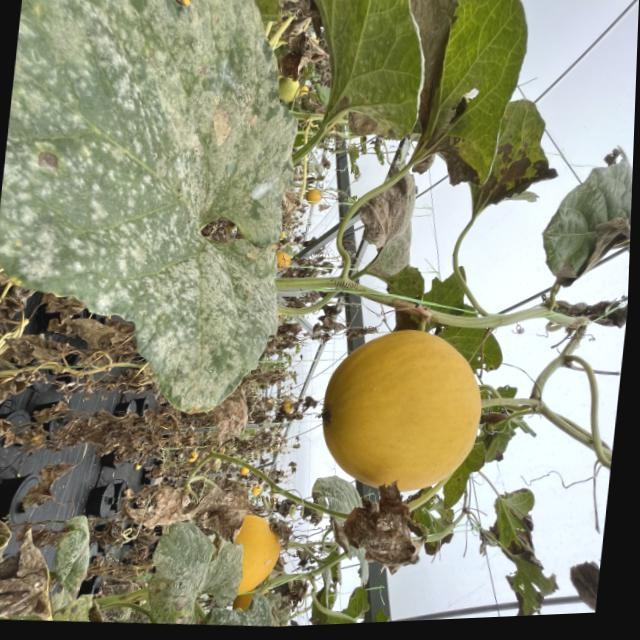CMV: (43, 506, 103, 616)
alternaria leaf blight: (474, 468, 570, 618), (537, 155, 633, 293), (42, 574, 103, 624), (565, 535, 602, 614)
bacterial wilt: (0, 0, 311, 409), (142, 511, 252, 630), (462, 80, 555, 206), (393, 0, 460, 136), (342, 476, 429, 580), (123, 476, 243, 536), (354, 175, 418, 275), (24, 397, 115, 454), (0, 534, 57, 623), (143, 382, 202, 457), (202, 589, 303, 630), (39, 311, 121, 357), (195, 383, 246, 454), (101, 415, 166, 467), (27, 460, 78, 504), (6, 334, 68, 367), (0, 415, 15, 442)
